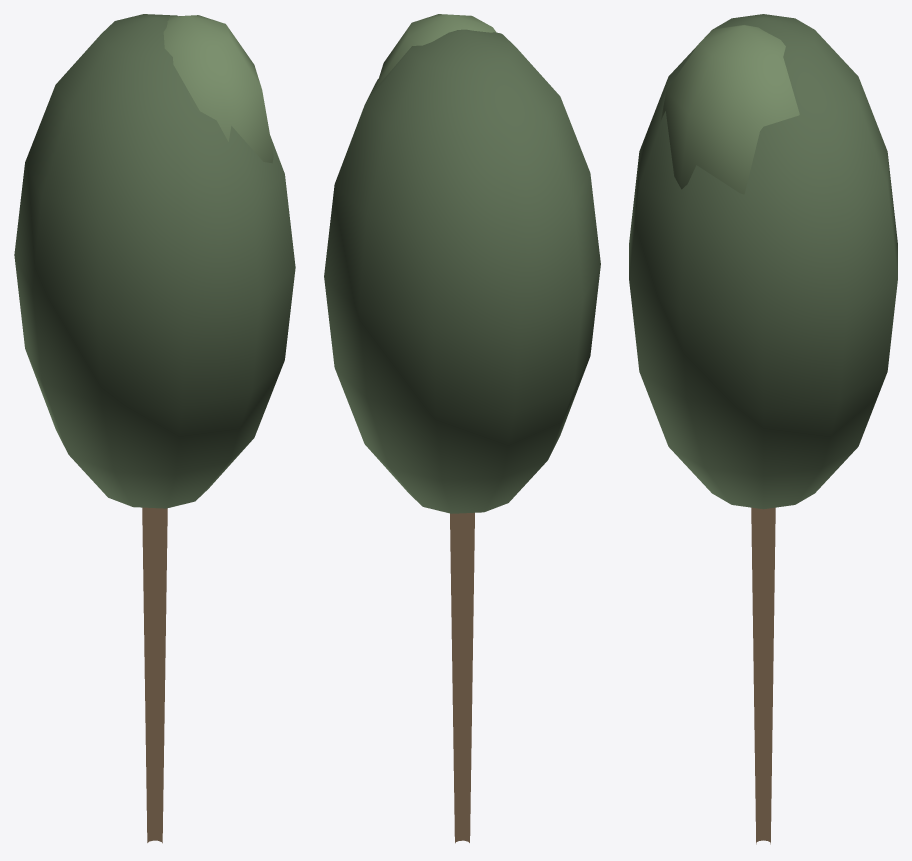
File: p_tree_poplar.glb
The picture shows the model from 3 angles, left to right: view 1: azimuth 30°, elevation 25°; view 2: azimuth 150°, elevation 25°; view 3: azimuth 270°, elevation 25°; orthographic projection.
Parts seen in each view (by area): view 1: body; view 2: body; view 3: body.
Boxes of the visible parts, x1,y1,x2,y2 form: body: (14,14,295,843); body: (324,14,600,843); body: (629,14,897,844).
Bounding box in the file's own units: 4.4 × 14.24 × 4.18.
